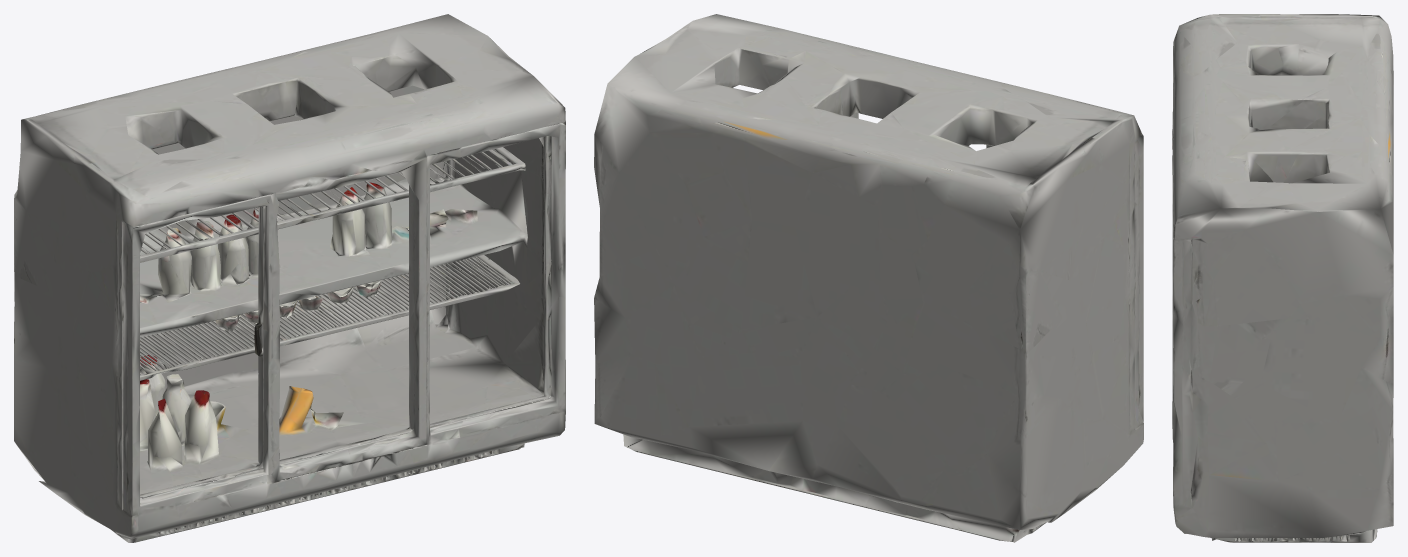
Rendered from dairy-case-lite.glb.
3 views of the same model, side by side, from view 1: azimuth 30°, elevation 25°; view 2: azimuth 150°, elevation 25°; view 3: azimuth 270°, elevation 25° (orthographic). The views are drawn at different scales.
Size of the model in its own units: 1.9 by 1.53 by 0.9017.
1 material, 1 textured.
